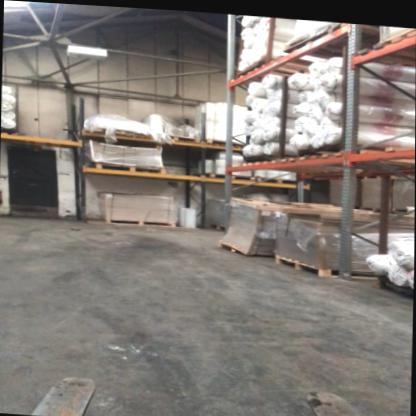vertical_damage: (332, 264, 356, 280)
